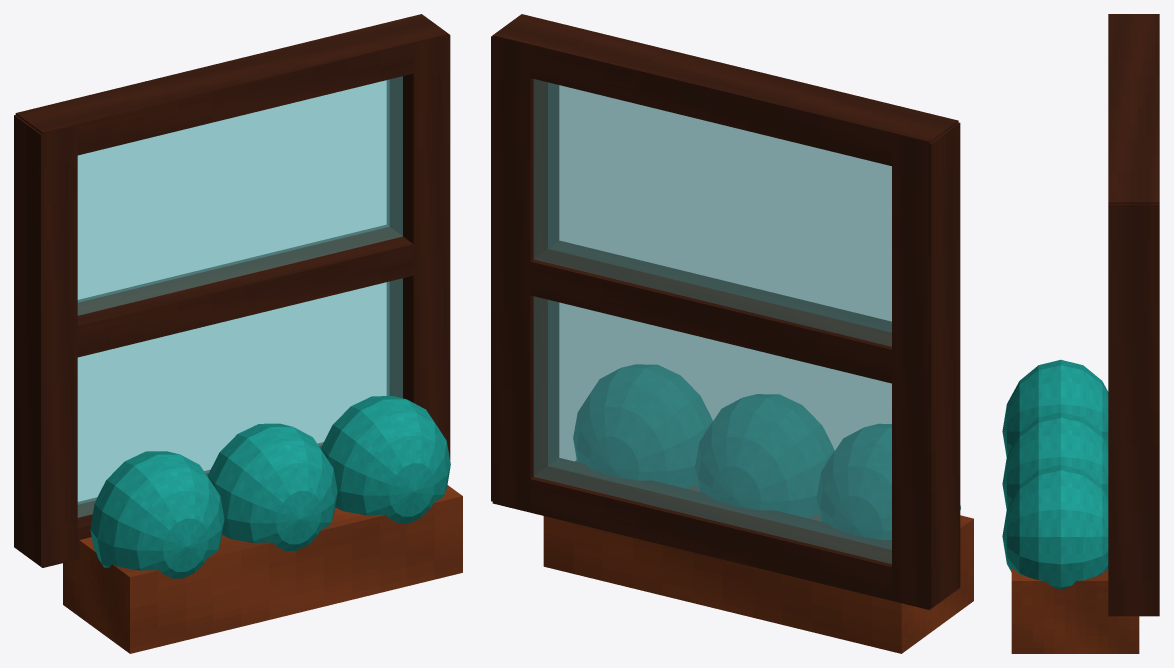
Rendered from bp_decorwindow.glb.
The picture shows the model from 3 angles, left to right: view 1: azimuth 30°, elevation 25°; view 2: azimuth 150°, elevation 25°; view 3: azimuth 270°, elevation 25°; orthographic projection. The views are drawn at different scales.
Parts seen in each view (by area): view 1: Glass, FlowerBox, Frame, Frame.001, Frame.004, Frame.003, Plant, Plant.002, Plant.001, Frame.002; view 2: Glass, Frame, Frame.001, Frame.004, Frame.003, Frame.002, FlowerBox, Plant.001, Plant.002, Plant; view 3: Frame.001, Plant.002, Frame.004, FlowerBox, Plant.001, Plant.
Boxes of the visible parts, x1,y1,x2,y2 form: Glass: [77, 76, 402, 517]; FlowerBox: [63, 485, 462, 653]; Frame: [14, 115, 77, 566]; Frame.001: [387, 34, 450, 459]; Frame.004: [15, 14, 448, 155]; Frame.003: [77, 225, 413, 357]; Plant: [90, 451, 224, 578]; Plant.002: [321, 396, 450, 523]; Plant.001: [207, 423, 337, 550]; Frame.002: [29, 442, 323, 567]; Glass: [534, 79, 891, 563]; Frame: [892, 122, 960, 608]; Frame.001: [491, 35, 558, 510]; Frame.004: [492, 14, 958, 165]; Frame.003: [530, 241, 891, 383]; Frame.002: [492, 458, 933, 609]; FlowerBox: [543, 460, 973, 653]; Plant.001: [695, 394, 834, 518]; Plant.002: [573, 364, 712, 488]; Plant: [817, 424, 960, 539]; Frame.001: [1108, 204, 1159, 615]; Plant.002: [1002, 465, 1108, 589]; Frame.004: [1108, 14, 1159, 203]; FlowerBox: [1011, 568, 1139, 653]; Plant.001: [1002, 412, 1108, 508]; Plant: [1002, 359, 1108, 456].
Size of the model in its own units: 1.23 by 1.41 by 0.43.
4 materials, 3 textured.
